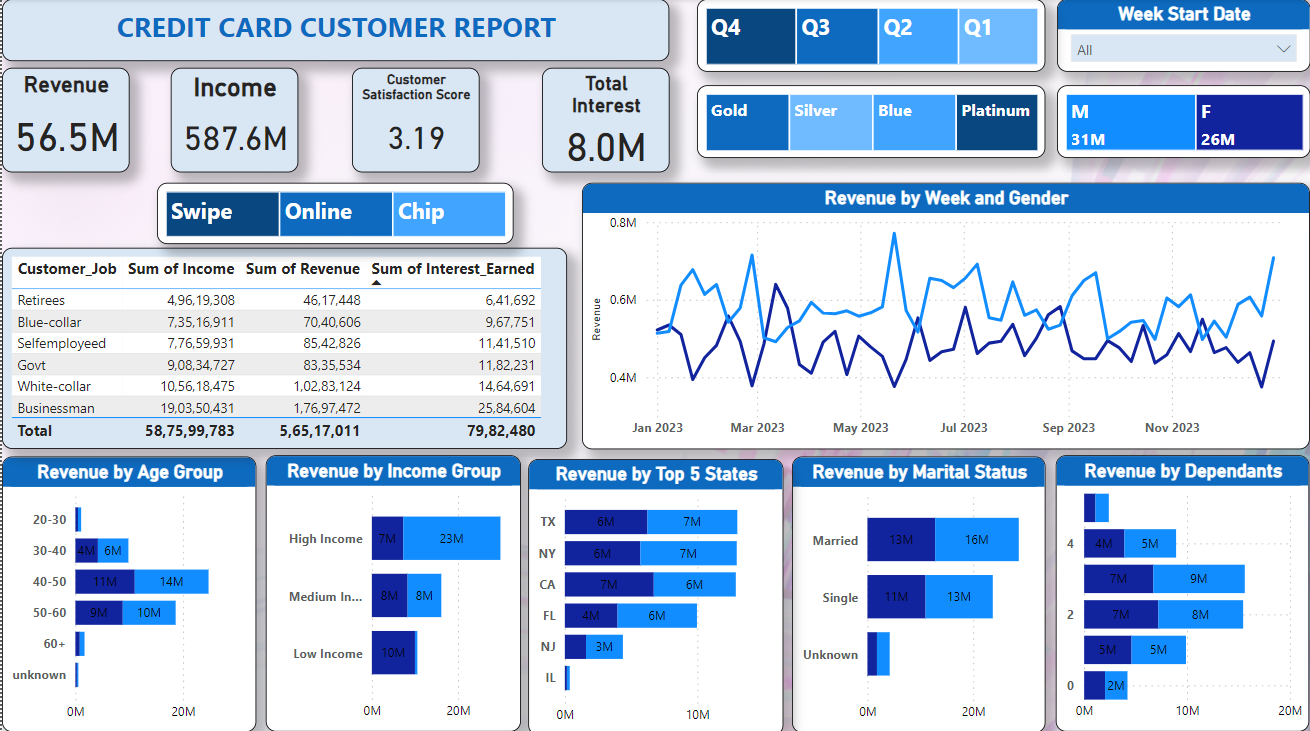

Layout of this report page (visuals, bound fields, positions):
{"tool":"powerbi","page":{"name":"CC Customer","canvas":[1280,720],"ordinal":2},"visuals":[{"type":"textbox","box":[0,0,652.8,60.4],"z":0},{"type":"barChart","title":"Revenue by Age Group","fields":{"Y":["Sum(ccdb cc_details.Revenue)"],"Category":["ccdb cust_details.AgeGroup"],"Series":["ccdb cust_details.Gender"]},"box":[0,447.3,249,269.6],"z":1000},{"type":"tableEx","fields":{"Values":["ccdb cust_details.Customer_Job","Sum(ccdb cust_details.Income)","Sum(ccdb cc_details.Revenue)","Sum(ccdb cc_details.Interest_Earned)"]},"box":[0,243.3,552.7,196.9],"z":2000},{"type":"card","title":"Revenue","fields":{"Values":["Sum(ccdb cc_details.Revenue)"]},"box":[0,67.7,124.5,102.8],"z":3000},{"type":"card","title":"Income","fields":{"Values":["Sum(ccdb cust_details.Income)"]},"box":[165.6,67.7,124.5,102.8],"z":4000},{"type":"card","title":"Customer Satisfaction Score","fields":{"Values":["Avg(ccdb cust_details.Cust_Satisfaction_Score)"]},"box":[342.1,67.7,124.5,102.8],"z":5000},{"type":"card","title":"Total Interest","fields":{"Values":["Sum(ccdb cc_details.Interest_Earned)"]},"box":[528.3,67.7,124.5,102.8],"z":6000},{"type":"slicer","title":"Week Start Date","fields":{"Values":["ccdb cc_details.Week_Start_Date"]},"box":[1032.2,0,247.8,71.3],"z":7000},{"type":"treemap","fields":{"Group":["ccdb cc_details.Qtr"],"Values":["Avg(ccdb cc_details.ï»¿Client_Num)"]},"box":[679.4,0,340.9,71.3],"z":8000},{"type":"treemap","fields":{"Group":["ccdb cc_details.Card_Category"],"Values":["Avg(ccdb cc_details.ï»¿Client_Num)"]},"box":[679.4,84.6,340.9,71.3],"z":9000},{"type":"lineChart","title":"Revenue by Week and Gender","fields":{"Series":["ccdb cust_details.Gender"],"Category":["ccdb cc_details.Week_Start_Date.Variation.Date Hierarchy.Year","ccdb cc_details.Week_Start_Date.Variation.Date Hierarchy.Month","ccdb cc_details.Week_Start_Date.Variation.Date Hierarchy.Day"],"Y":["Sum(ccdb cc_details.Revenue)"]},"box":[567.4,179.8,711.7,260.5],"z":11000},{"type":"treemap","fields":{"Values":["Sum(ccdb cc_details.Revenue)"],"Group":["ccdb cust_details.Gender"]},"box":[1032.1,84.4,248.2,70.9],"z":12000},{"type":"barChart","title":"Revenue by Income Group","fields":{"Y":["Sum(ccdb cc_details.Revenue)"],"Category":["ccdb cust_details.IncomeGroup"],"Series":["ccdb cust_details.Gender"]},"box":[258,446.3,249.5,270.2],"z":12001},{"type":"barChart","title":"Revenue by Marital Status","fields":{"Y":["Sum(ccdb cc_details.Revenue)"],"Category":["ccdb cust_details.Marital_Status"],"Series":["ccdb cust_details.Gender"]},"box":[772.8,447.6,248.2,270.2],"z":12003},{"type":"barChart","title":"Revenue by Dependants","fields":{"Y":["Sum(ccdb cc_details.Revenue)"],"Category":["ccdb cust_details.Dependent_Count"],"Series":["ccdb cust_details.Gender"]},"box":[1030.8,446.3,248.2,270.2],"z":12004},{"type":"barChart","title":"Revenue by Top 5 States","fields":{"Y":["Sum(ccdb cc_details.Revenue)"],"Category":["ccdb cust_details.state_cd"],"Series":["ccdb cust_details.Gender"]},"box":[514.8,450,249.5,270.2],"z":12005},{"type":"treemap","fields":{"Values":["Avg(ccdb cc_details.ï»¿Client_Num)"],"Group":["ccdb cc_details.Use_Chip"]},"box":[151.6,179.8,348.5,59.9],"z":12006}]}

Visuals, with their boxes in screenshot pixels (x1, y1, x2, y2), scaled from the page's 1280x720 canvas onto the 1310x731 screenshot:
textbox: (0, 0, 668, 61)
"Revenue by Age Group" barChart: (0, 454, 255, 728)
tableEx - ccdb cust_details.Customer_Job x Sum(ccdb cust_details.Income): (0, 247, 566, 447)
"Revenue" card: (0, 69, 127, 173)
"Income" card: (169, 69, 297, 173)
"Customer Satisfaction Score" card: (350, 69, 478, 173)
"Total Interest" card: (541, 69, 668, 173)
"Week Start Date" slicer: (1056, 0, 1309, 72)
treemap - ccdb cc_details.Qtr x Avg(ccdb cc_details.ï»¿Client_Num): (695, 0, 1044, 72)
treemap - ccdb cc_details.Card_Category x Avg(ccdb cc_details.ï»¿Client_Num): (695, 86, 1044, 158)
"Revenue by Week and Gender" lineChart: (581, 183, 1309, 447)
treemap - Sum(ccdb cc_details.Revenue) x ccdb cust_details.Gender: (1056, 86, 1309, 158)
"Revenue by Income Group" barChart: (264, 453, 519, 727)
"Revenue by Marital Status" barChart: (791, 454, 1045, 729)
"Revenue by Dependants" barChart: (1055, 453, 1309, 727)
"Revenue by Top 5 States" barChart: (527, 457, 782, 730)
treemap - Avg(ccdb cc_details.ï»¿Client_Num) x ccdb cc_details.Use_Chip: (155, 183, 512, 243)
